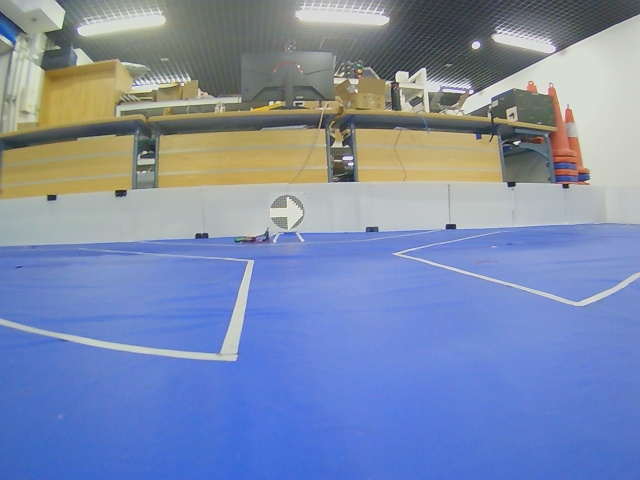right_yellow: (270, 195, 304, 230)
